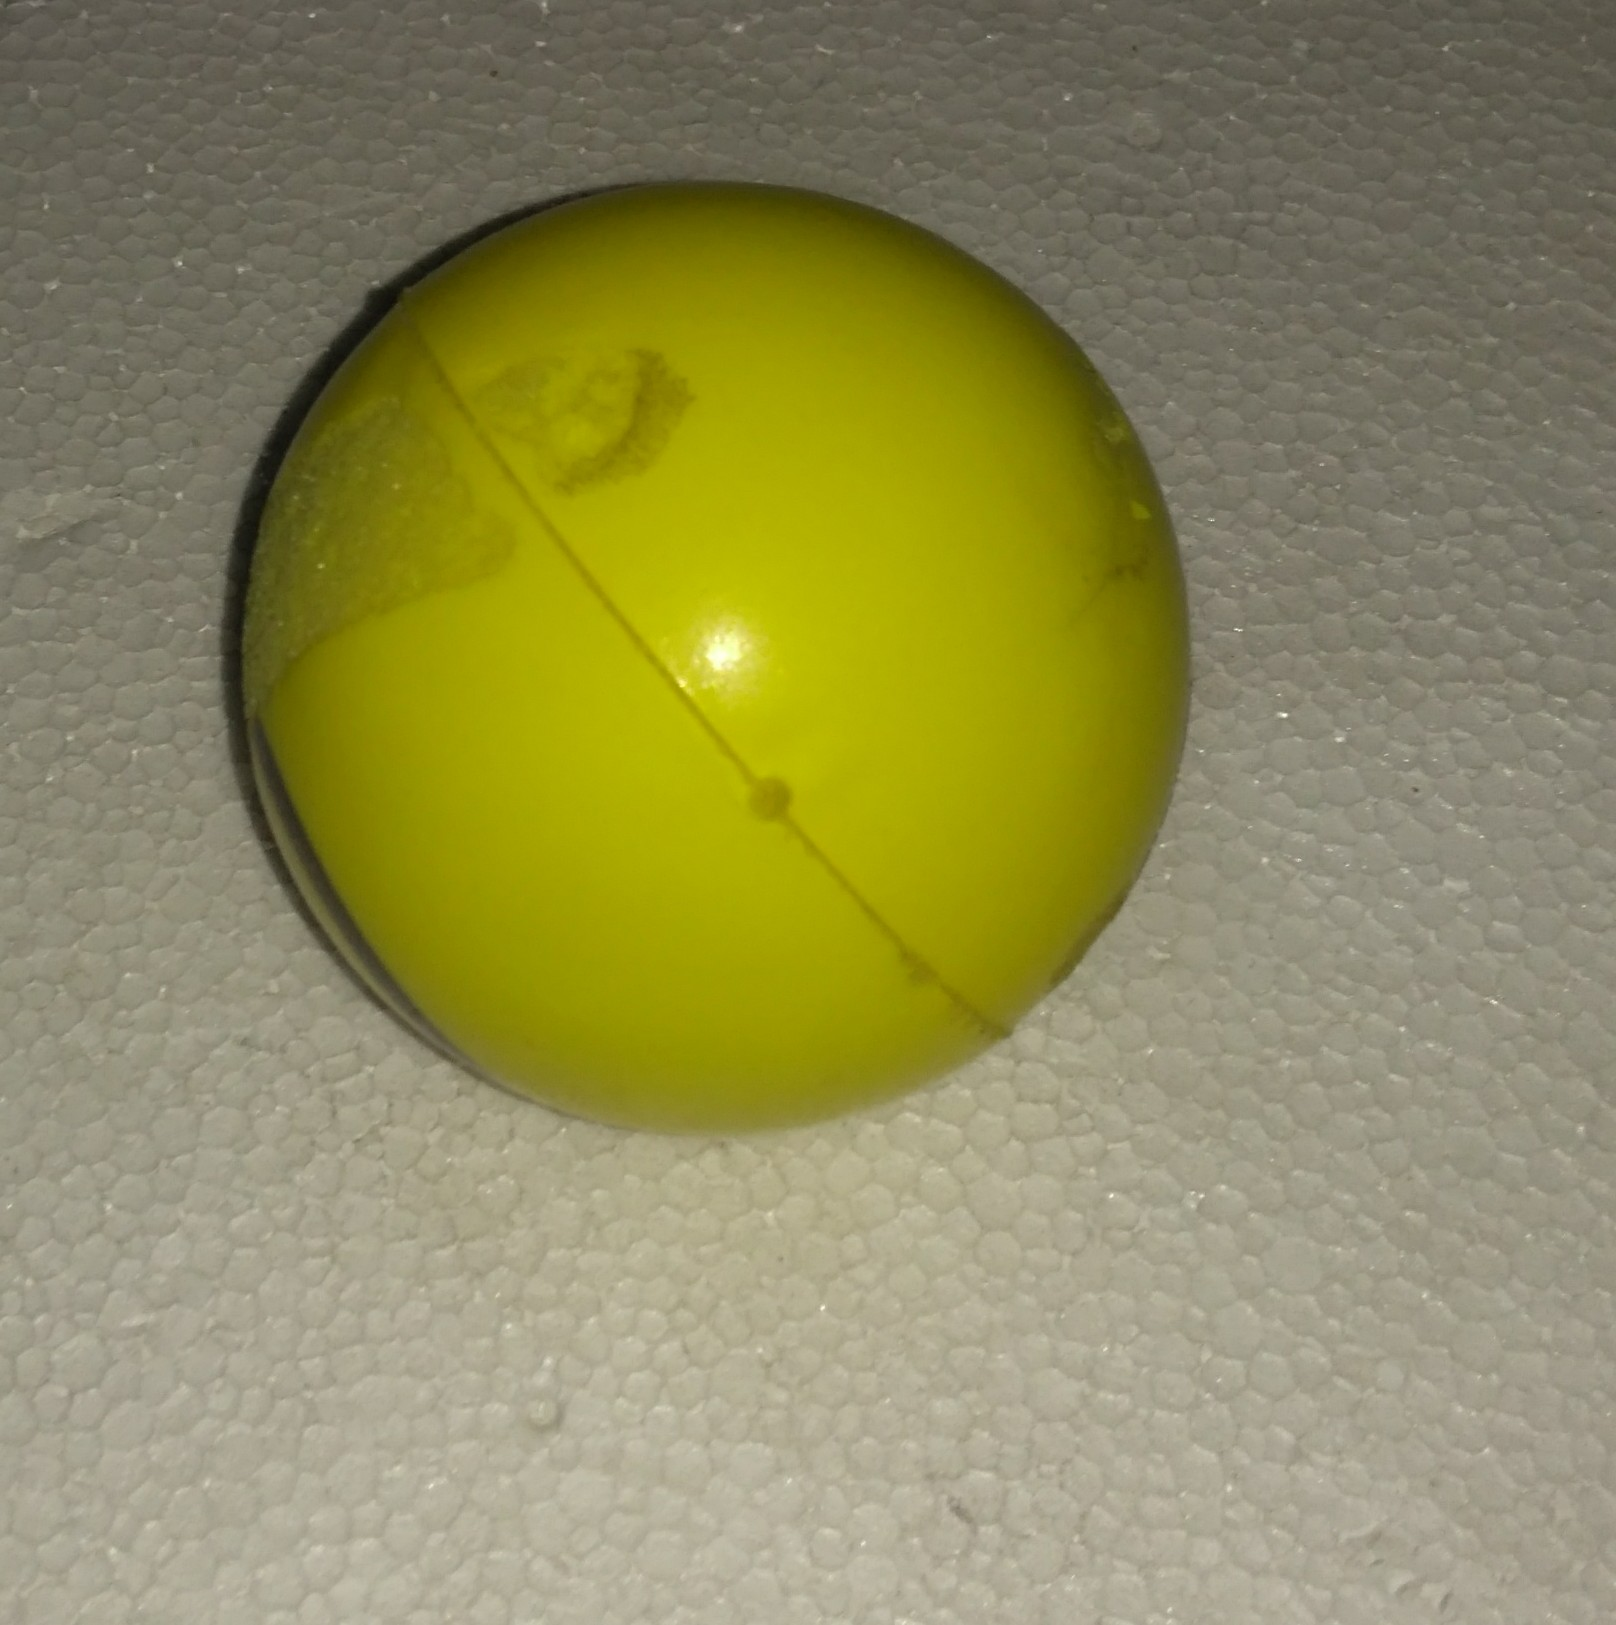ball: (220, 184, 1197, 1147)
